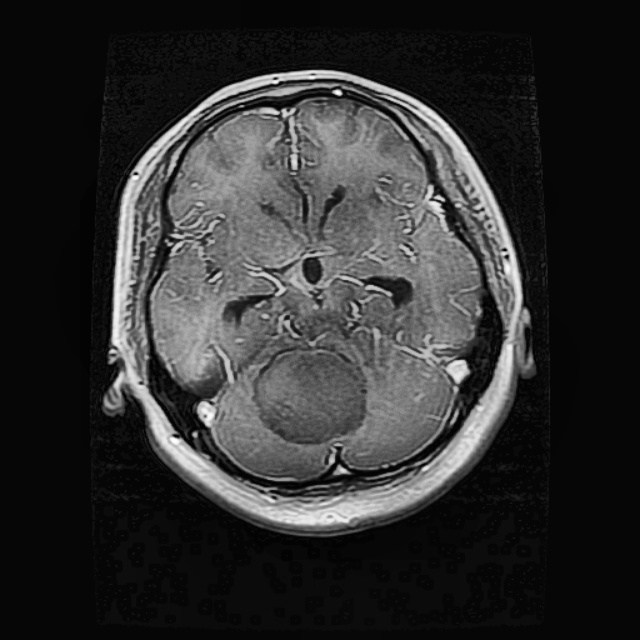Glioma: (259, 350, 363, 439)
